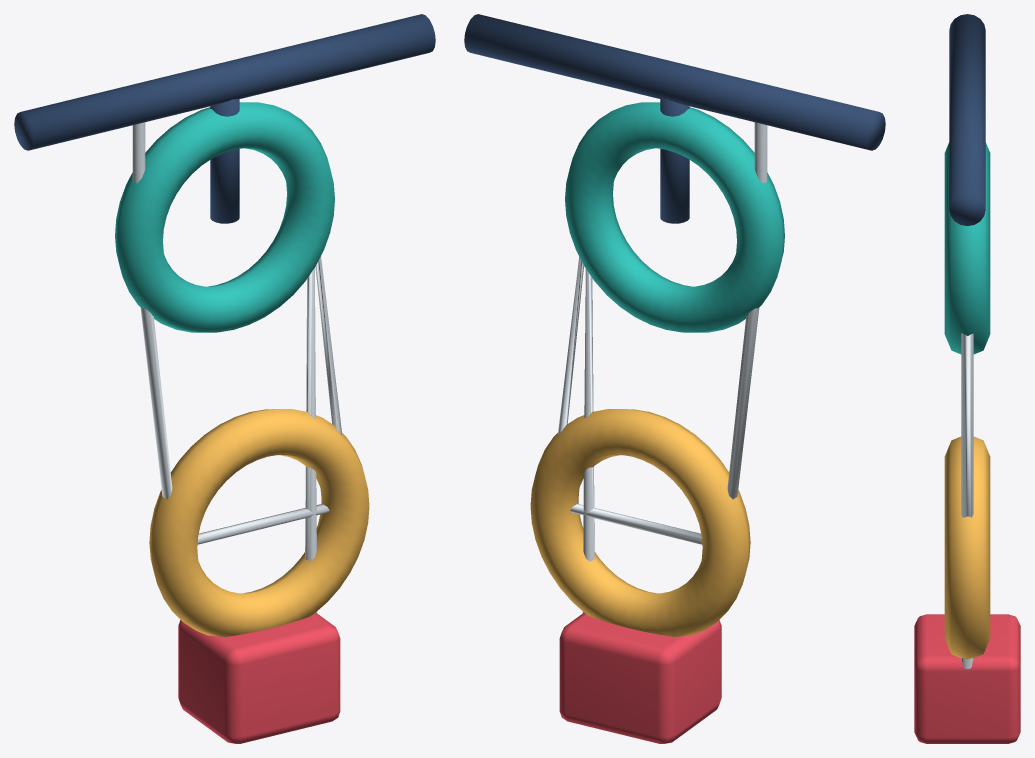
File: double-pulley-lite.glb
3 renders of one model, left to right at view 1: azimuth 30°, elevation 25°; view 2: azimuth 150°, elevation 25°; view 3: azimuth 270°, elevation 25°, orthographic. The views are drawn at different scales.
Visible parts, largest first — view 1: Upper; view 2: Upper; view 3: Upper.
Part boxes in pixels (bbox=[...]): Upper: bbox=[14, 14, 435, 743]; Upper: bbox=[464, 14, 885, 743]; Upper: bbox=[914, 14, 1020, 743].
Size of the model in its own units: 1.4 by 2.2 by 0.35.
